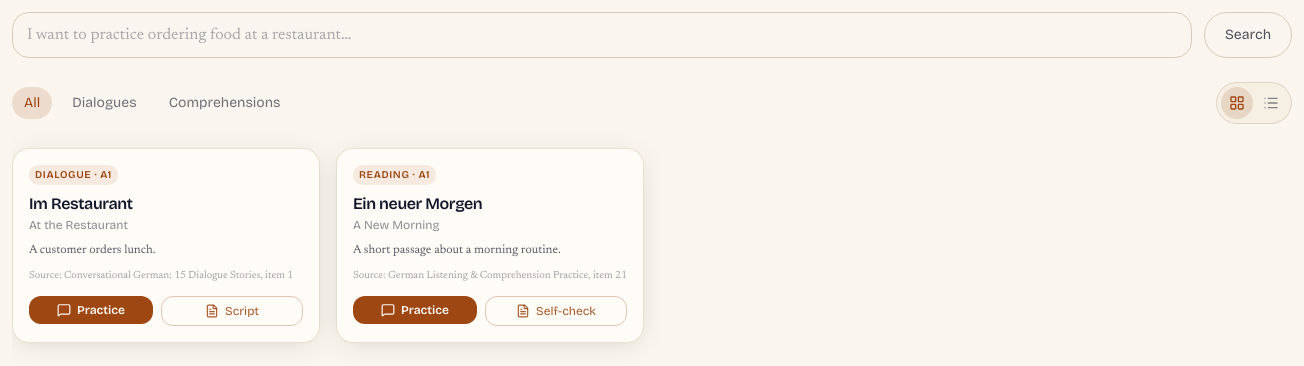
Test: searching › says plainly when nothing matched
The width and height of the screenshot is (1304, 366).
In the search field named "Search scenarios": x=602, y=35 [12, 12, 1192, 58], type "quantum physics"
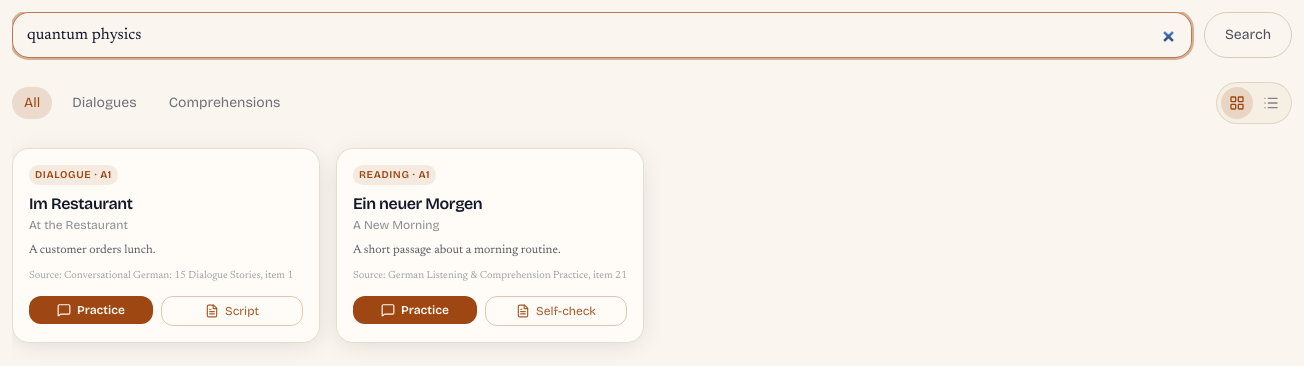
Click the button "Search": x=1248, y=35 [1204, 12, 1292, 58]
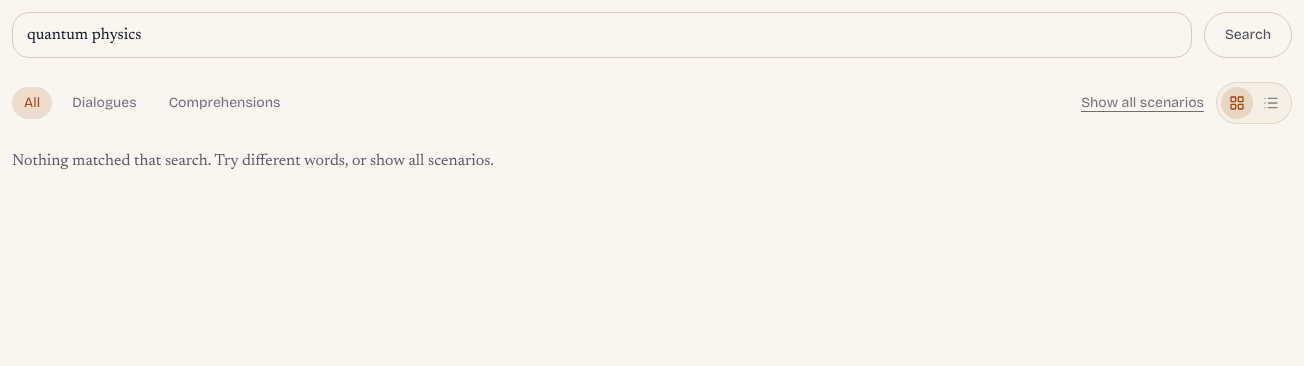
Expected: the text "Nothing matched" is shown, [12, 153, 494, 169]
